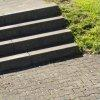stairs: (2, 3, 80, 74)
